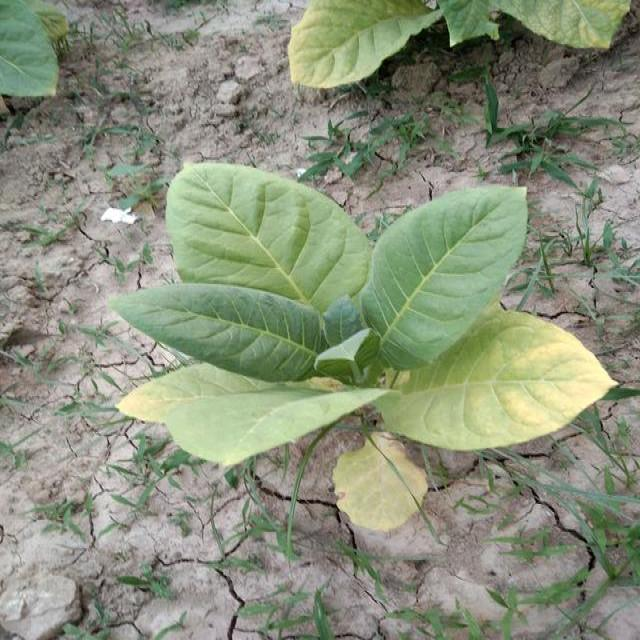crop: (129, 158, 596, 538), (290, 0, 620, 107)
